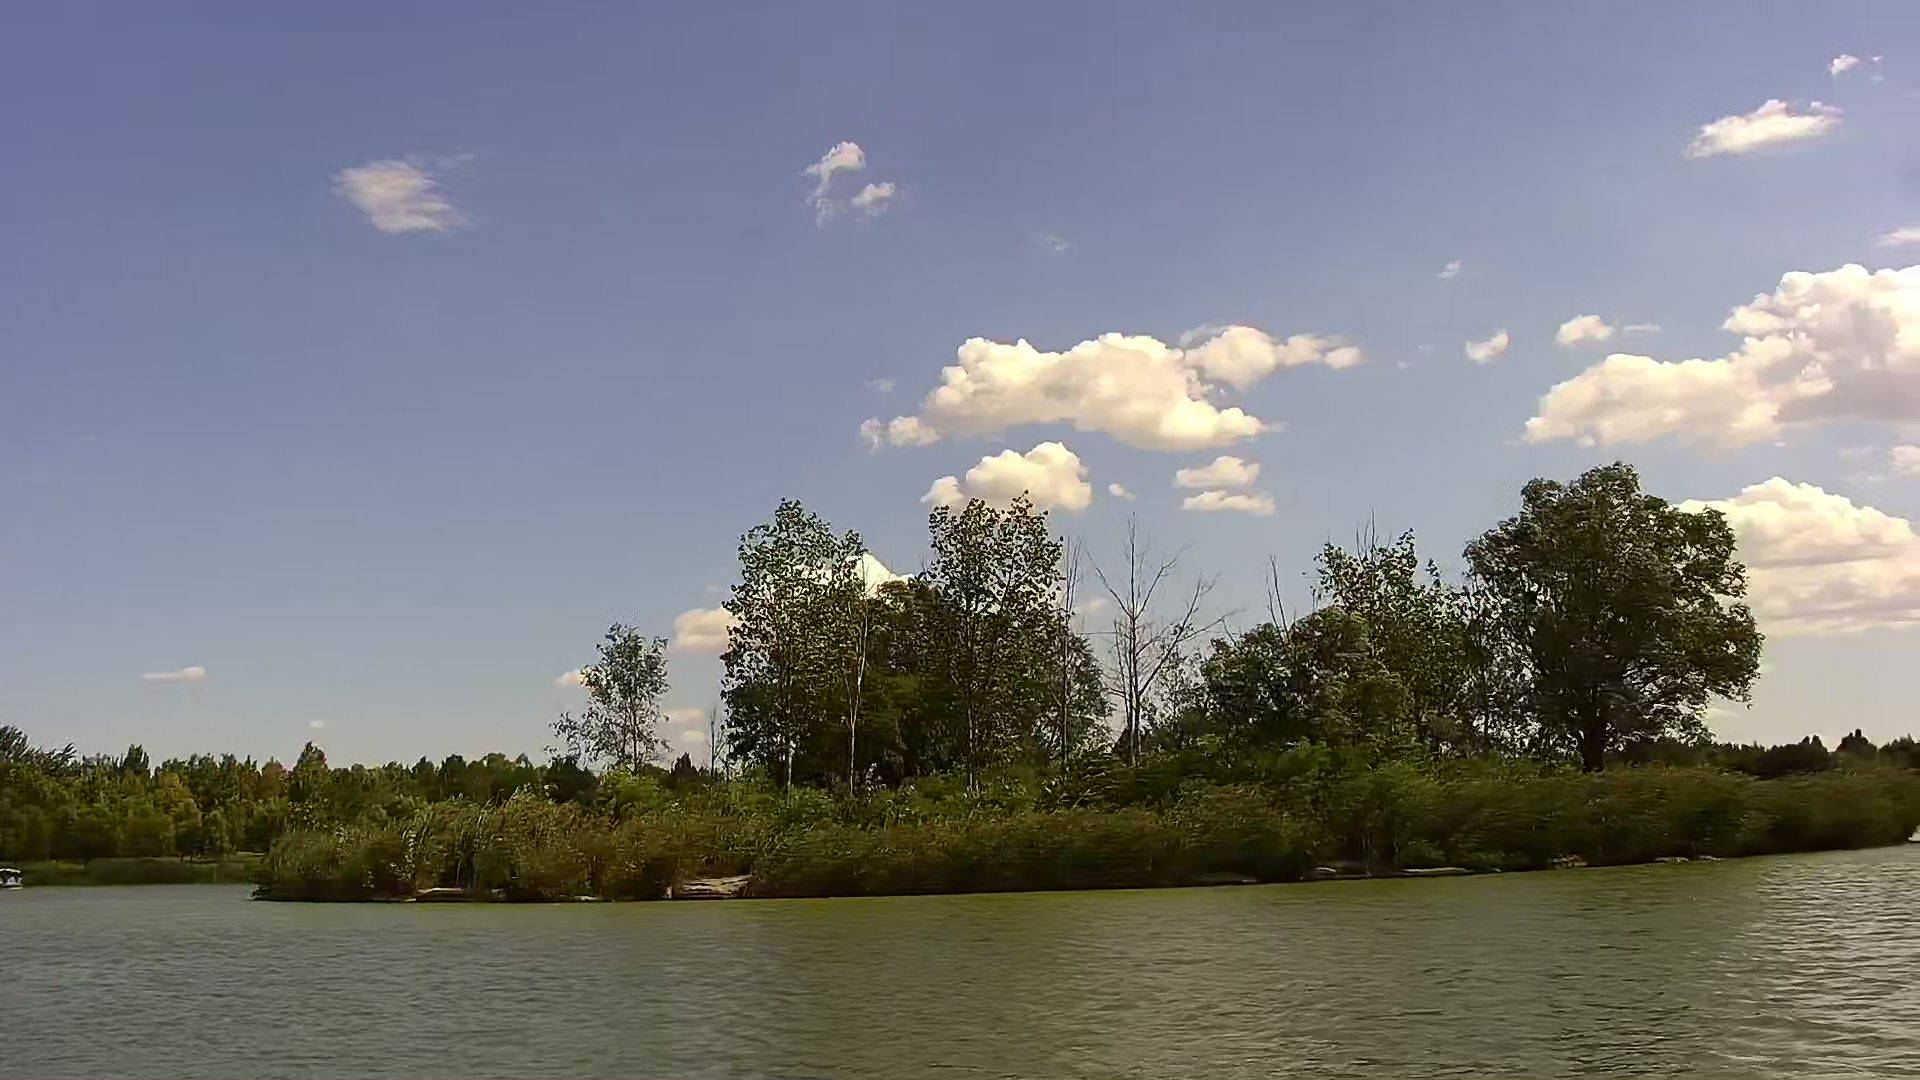boat: (3, 864, 26, 887)
rock: (663, 869, 752, 895), (415, 884, 477, 901)
